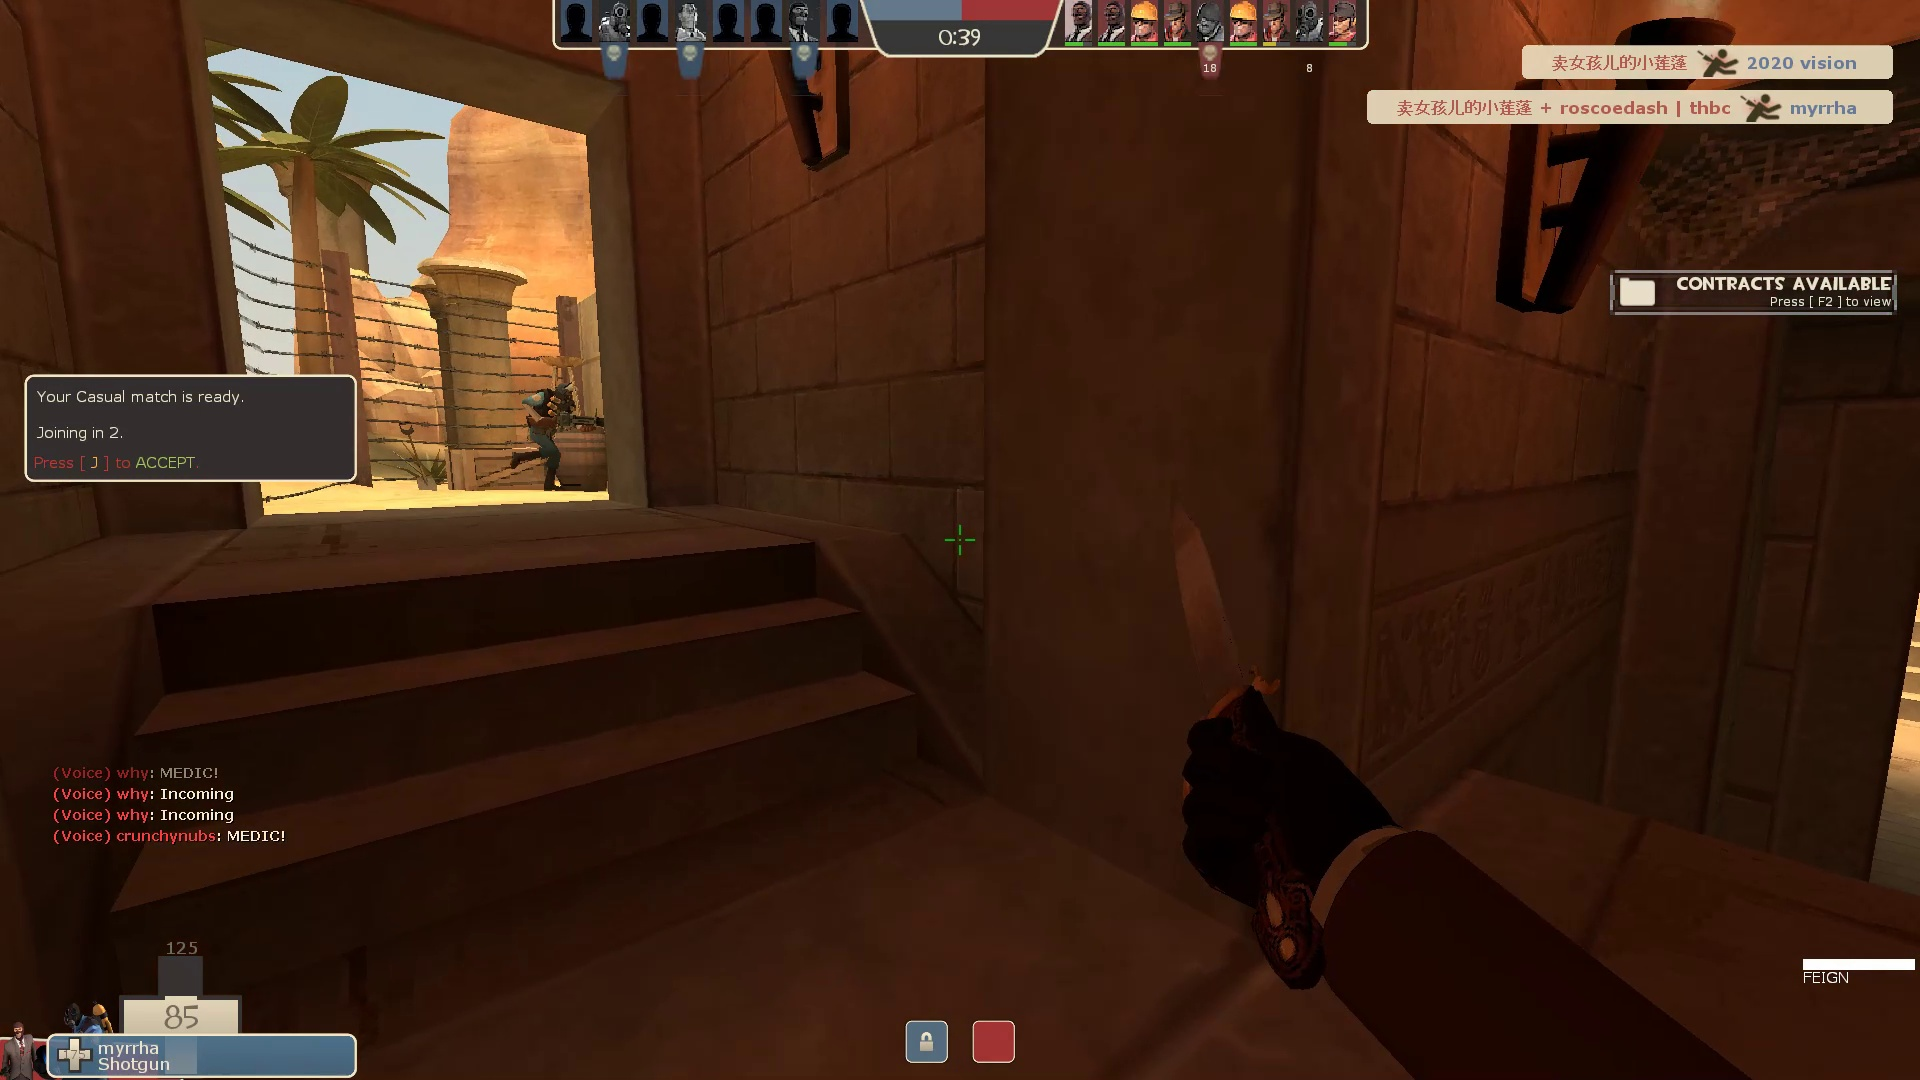blu_demo: (506, 375, 609, 500)
